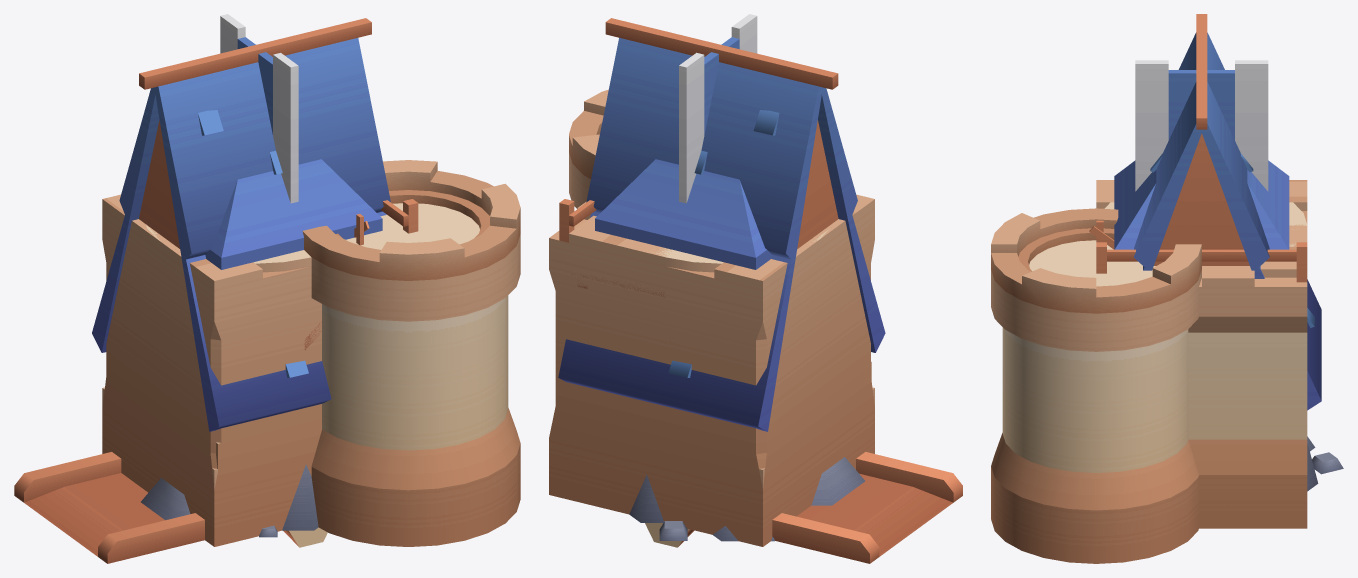
Rendered from castle.glb.
The picture shows the model from 3 angles, left to right: view 1: azimuth 30°, elevation 25°; view 2: azimuth 150°, elevation 25°; view 3: azimuth 270°, elevation 25°; orthographic projection. The views are drawn at different scales.
Parts seen in each view (by area): view 1: ck_wall_corner_half_tower, ck_tower_slant_roof, ck_wall_corner, ck_tower_square, ck_wall, ck_bridge_draw, ck_tower_square_roof, ck_wall_pillar, ck_wall_narrow_wood, ck_wall_doorway, ck_flag_banner_long, ck_rocks_large (+4 smaller); view 2: ck_tower_slant_roof, ck_wall, ck_wall_corner, ck_tower_square, ck_tower_square_roof, ck_bridge_draw, ck_wall_half_modular, ck_wall_narrow_stairs, ck_wall_doorway, ck_wall_pillar, ck_wall_narrow_wood, ck_flag_banner_long (+10 smaller); view 3: ck_wall_corner_half_tower, ck_wall_half_modular, ck_tower_slant_roof, ck_flag_banner_long, ck_tower_square_roof, ck_wall_narrow_wood_fence, ck_wall_narrow_stairs_rail, ck_wall_corner, ck_tower_square, ck_rocks_large.
Part boxes in pixels (left/top/right/bottom): ck_wall_corner_half_tower: left=195, top=160, right=520, bottom=546; ck_tower_slant_roof: left=92, top=18, right=390, bottom=431; ck_wall_corner: left=102, top=201, right=311, bottom=545; ck_tower_square: left=102, top=199, right=311, bottom=546; ck_wall: left=102, top=200, right=321, bottom=490; ck_bridge_draw: left=14, top=452, right=204, bottom=563; ck_tower_square_roof: left=103, top=159, right=382, bottom=278; ck_wall_pillar: left=102, top=213, right=253, bottom=544; ck_wall_narrow_wood: left=214, top=302, right=321, bottom=523; ck_wall_doorway: left=214, top=284, right=311, bottom=546; ck_flag_banner_long: left=220, top=14, right=298, bottom=203; ck_rocks_large: left=141, top=464, right=318, bottom=530; ck_tower_slant_roof: left=558, top=18, right=885, bottom=431; ck_wall: left=569, top=212, right=874, bottom=490; ck_wall_corner: left=569, top=208, right=874, bottom=489; ck_tower_square: left=569, top=199, right=874, bottom=546; ck_tower_square_roof: left=595, top=159, right=855, bottom=280; ck_bridge_draw: left=772, top=452, right=962, bottom=563; ck_wall_half_modular: left=549, top=201, right=666, bottom=520; ck_wall_narrow_stairs: left=572, top=245, right=871, bottom=534; ck_wall_doorway: left=666, top=220, right=844, bottom=546; ck_wall_pillar: left=572, top=229, right=874, bottom=489; ck_wall_narrow_wood: left=572, top=274, right=762, bottom=532; ck_flag_banner_long: left=679, top=14, right=757, bottom=203; ck_wall_corner_half_tower: left=991, top=180, right=1296, bottom=563; ck_wall_half_modular: left=1188, top=269, right=1307, bottom=528; ck_tower_slant_roof: left=1134, top=14, right=1321, bottom=410; ck_flag_banner_long: left=1135, top=60, right=1268, bottom=191; ck_tower_square_roof: left=1114, top=160, right=1307, bottom=249; ck_wall_narrow_wood_fence: left=1096, top=242, right=1307, bottom=282; ck_wall_narrow_stairs_rail: left=1089, top=181, right=1307, bottom=249; ck_wall_corner: left=1202, top=224, right=1307, bottom=269; ck_tower_square: left=1096, top=202, right=1307, bottom=277; ck_rocks_large: left=1312, top=452, right=1343, bottom=474.
Bounding box in the file's own units: 2 × 2.28 × 1.67.
1 material, 1 textured.
